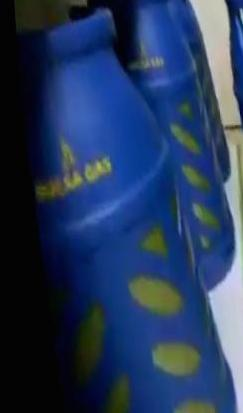cylinder: (1, 0, 243, 413)
